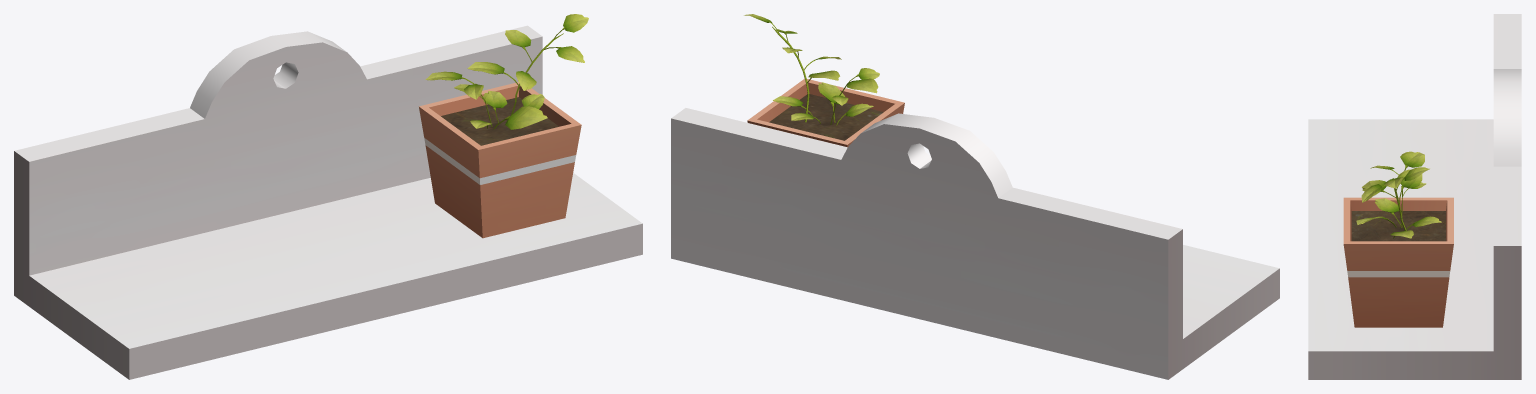
Rendered from Doll_OB_Shelf_003.FBX.
3 views of the same model, side by side, from view 1: azimuth 30°, elevation 25°; view 2: azimuth 150°, elevation 25°; view 3: azimuth 270°, elevation 25° (orthographic). The views are drawn at different scales.
Visible parts, largest first — view 1: Doll_OB_Shelf_003; view 2: Doll_OB_Shelf_003; view 3: Doll_OB_Shelf_003.
Boxes of the visible parts, x1,y1,x2,y2 form: Doll_OB_Shelf_003: (14,14,642,379); Doll_OB_Shelf_003: (671,14,1279,379); Doll_OB_Shelf_003: (1308,14,1521,379).
Bounding box in the file's own units: 55.14 × 21.32 × 21.41.
